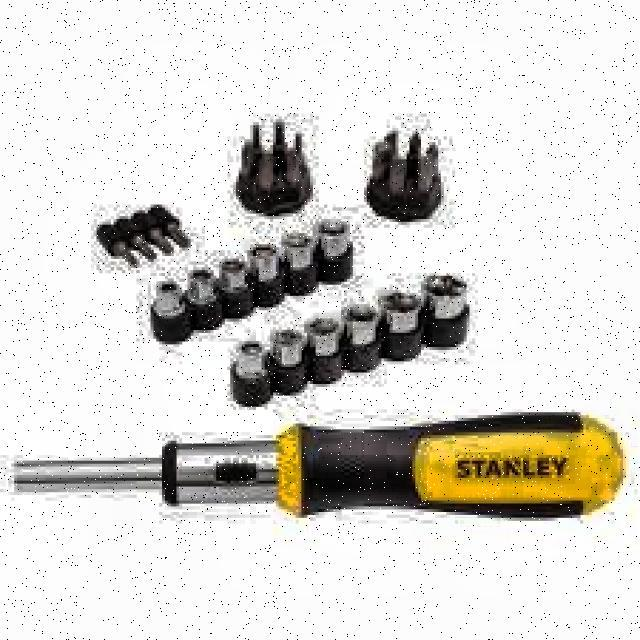screwdriver: (15, 414, 622, 524)
